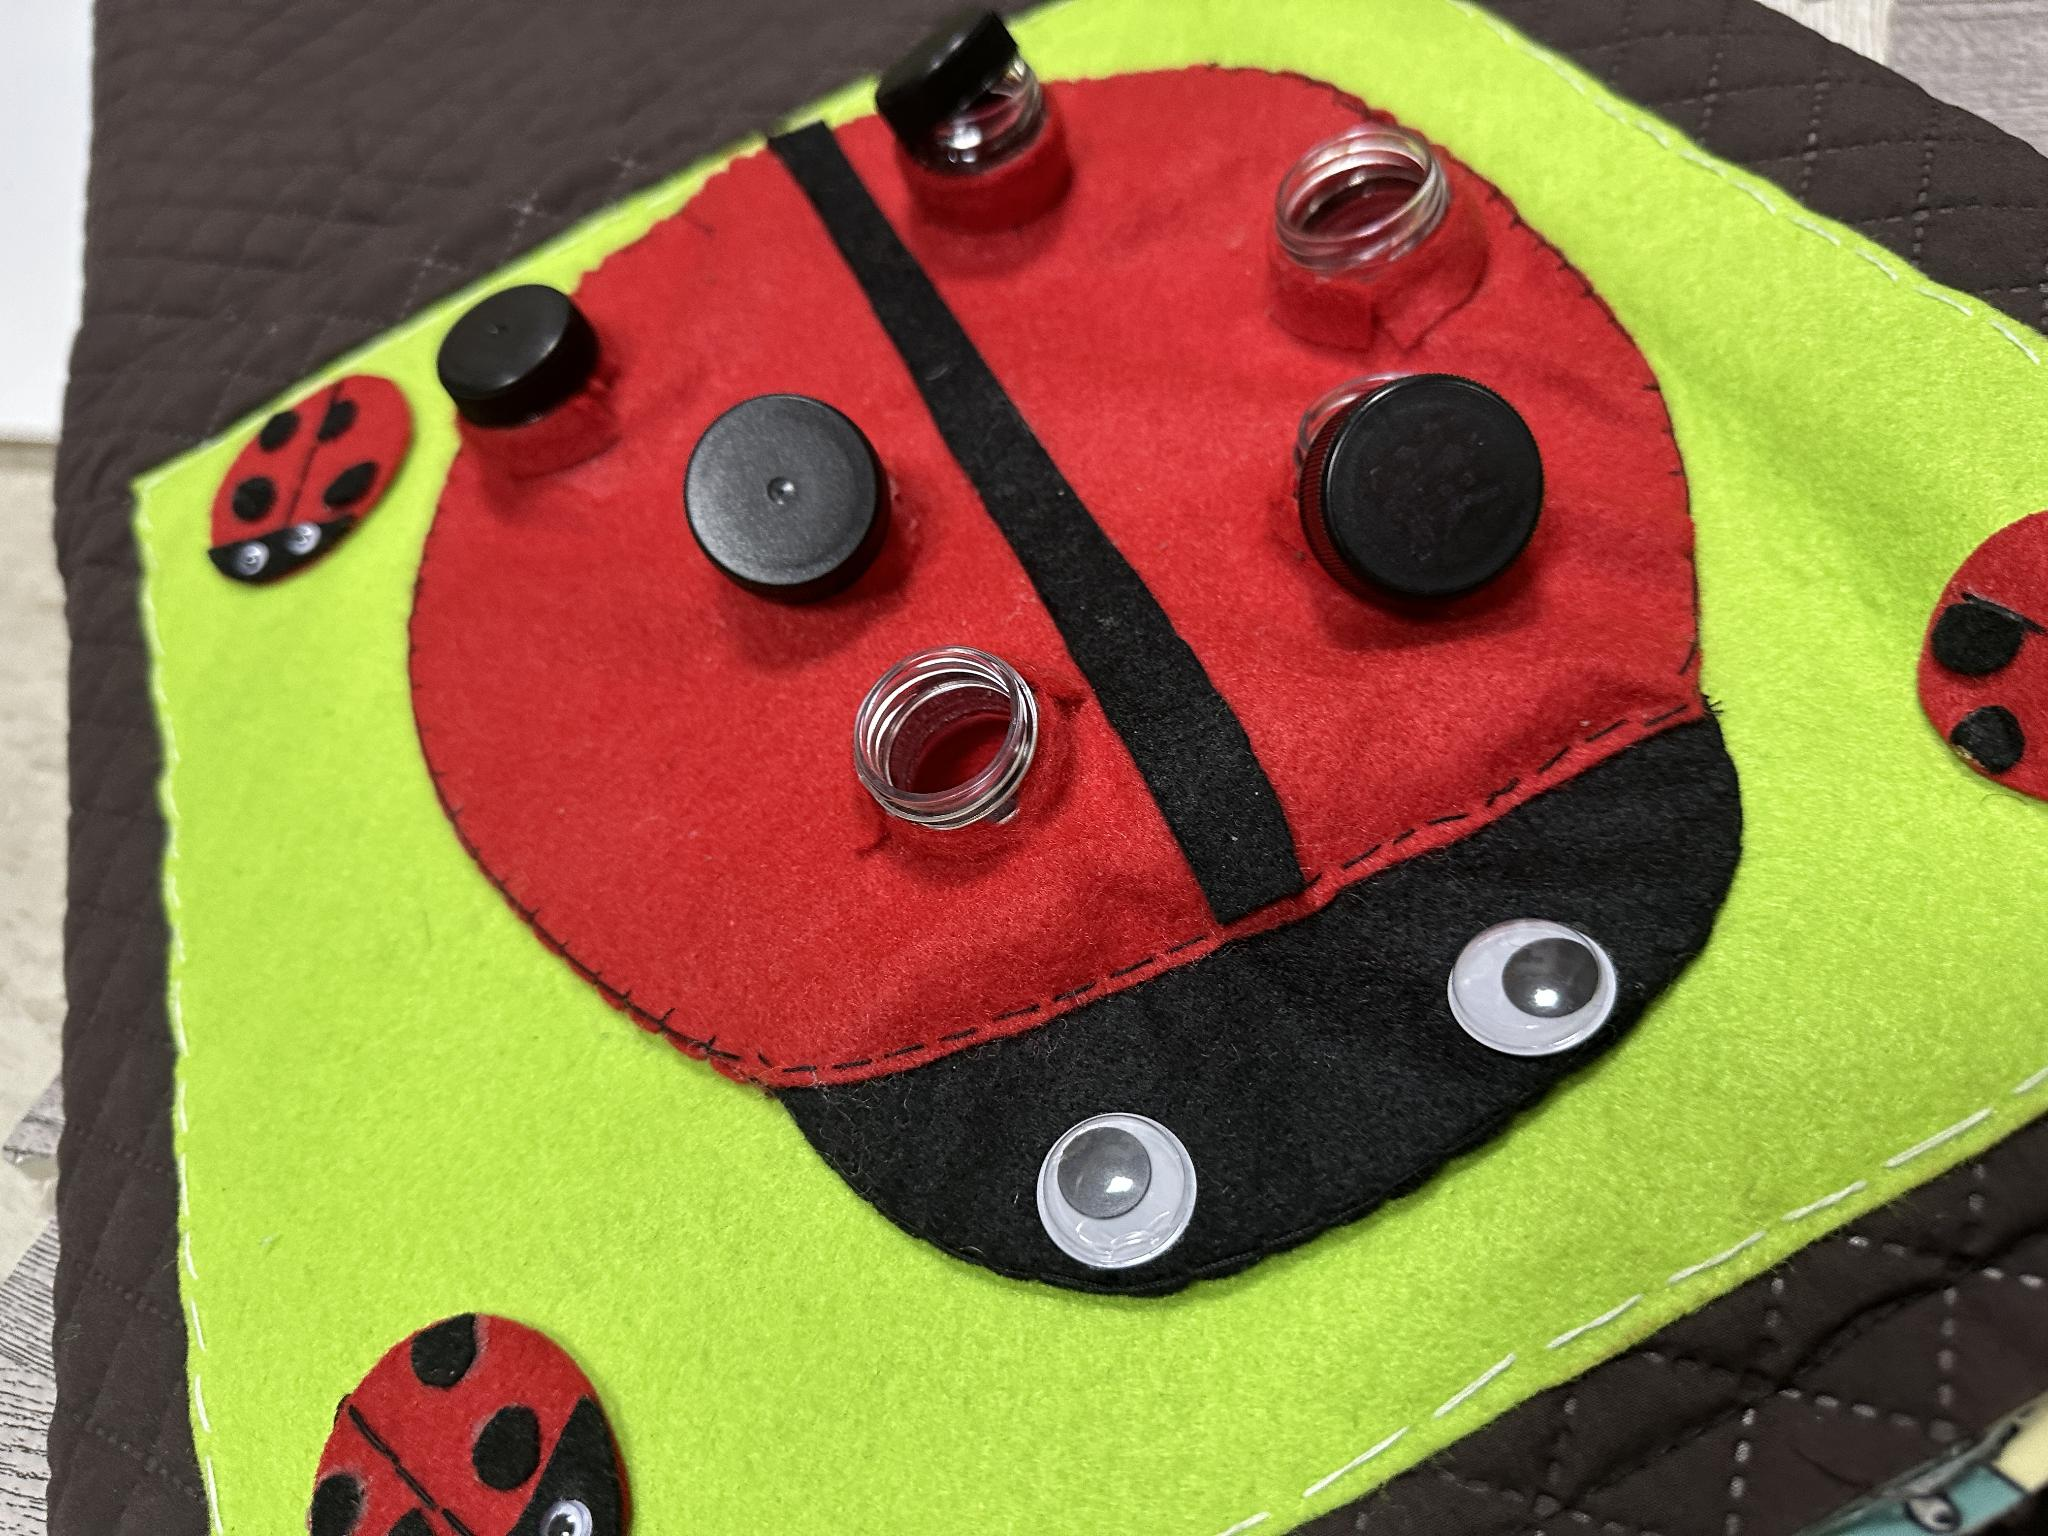cap_ng: (1264, 366, 1566, 642), (671, 392, 921, 644), (871, 13, 1095, 260)
cap_ok: (423, 290, 640, 495)
